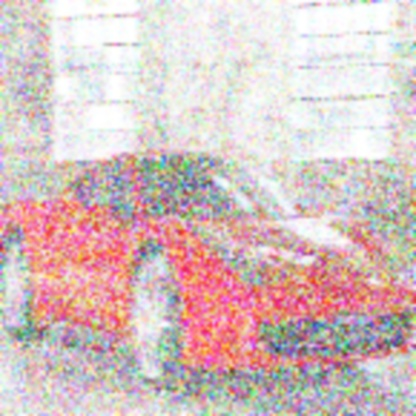Vehicle: (1, 145, 415, 400)
